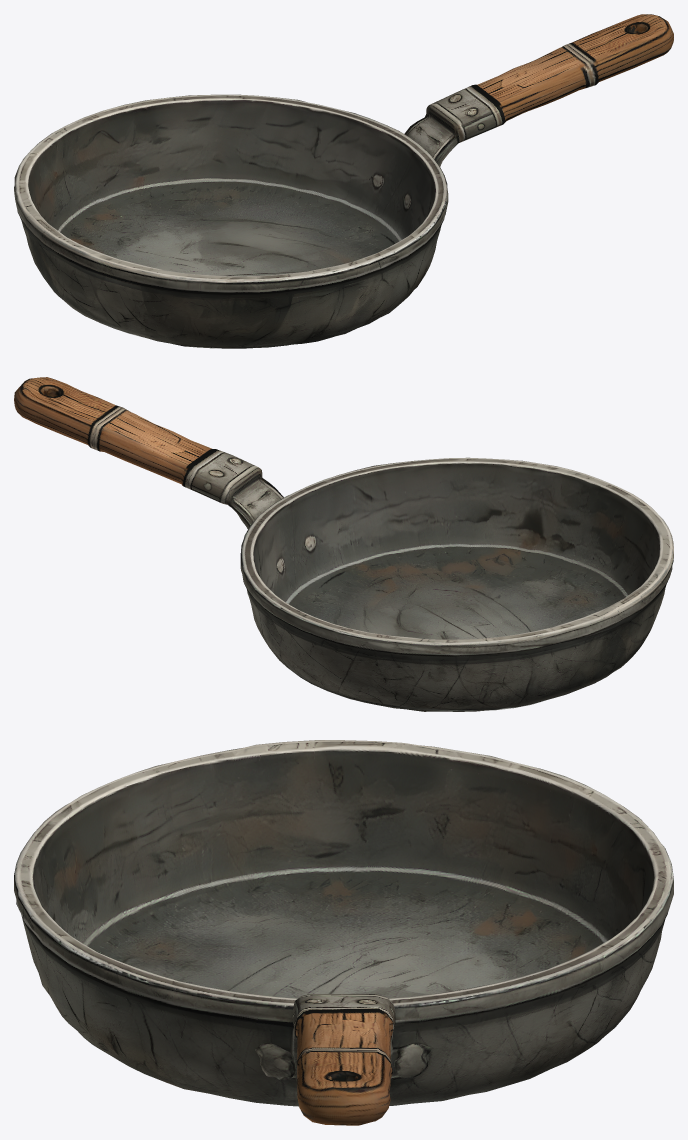
The model's file is pan.fbx.
3 renders of one model, top to bottom at view 1: azimuth 30°, elevation 25°; view 2: azimuth 150°, elevation 25°; view 3: azimuth 270°, elevation 25°, orthographic. The views are drawn at different scales.
Visible parts, largest first — view 1: Mesh_0.001; view 2: Mesh_0.001; view 3: Mesh_0.001.
Part boxes in pixels (x1,y1,x2,y2): Mesh_0.001: (14,14,673,348); Mesh_0.001: (14,377,673,711); Mesh_0.001: (14,740,673,1125).
Size of the model in its own units: 50 by 11.81 by 31.11.
1 material, 1 textured.
